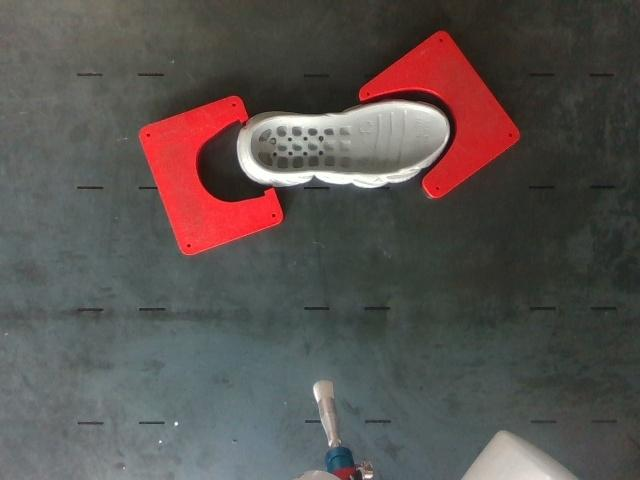shoes: (250, 101, 448, 175)
